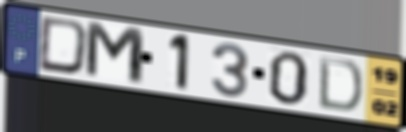0: (267, 50, 312, 108)
1: (166, 33, 193, 95)
3: (210, 41, 250, 99)
D: (36, 14, 92, 77), (316, 53, 365, 115)
M: (83, 18, 148, 89)
